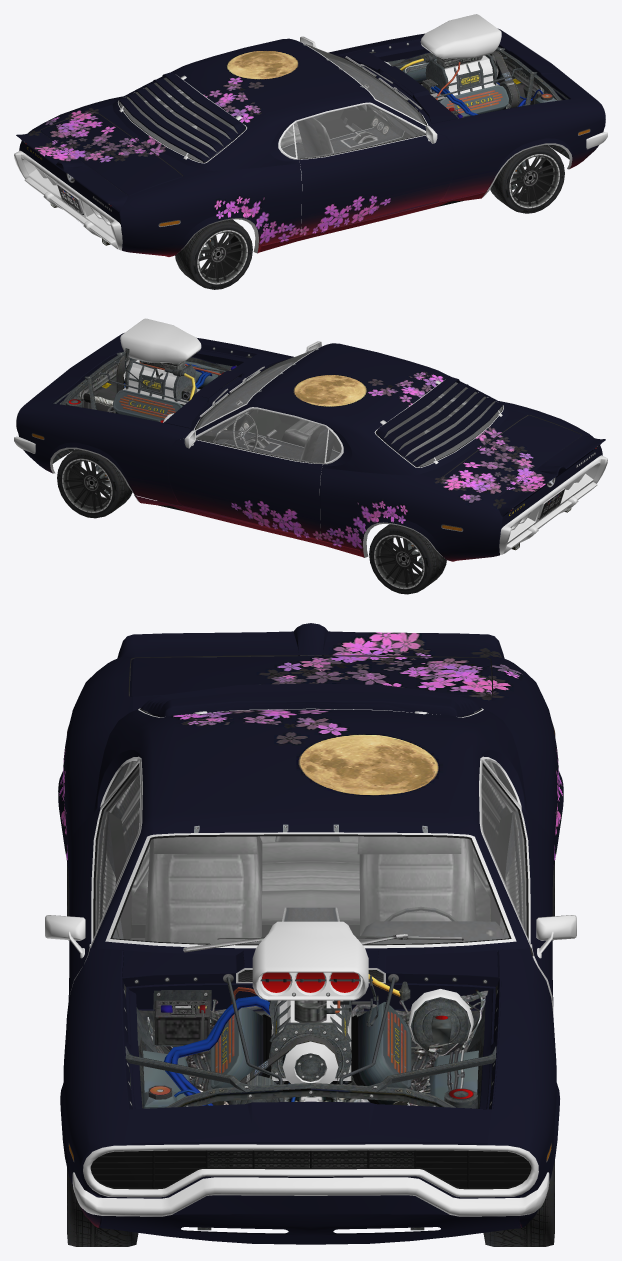
The model's file is carson_annihilator_street_rod-JAtnIIXY.glb.
3 renders of one model, top to bottom at view 1: azimuth 30°, elevation 25°; view 2: azimuth 150°, elevation 25°; view 3: azimuth 270°, elevation 25°, orthographic. The views are drawn at different scales.
Visible parts, largest first — view 1: FE_BE_8A_7B_44, 6C_FD_38_D4_22, 01_21_A2_63_38, D3_4E_6E_08_34, 5D_D4_9A_C9_6, 42_3D_8F_86_14, 6D_DE_B9_D3_54, 2A_03_4B_45.002_2, 2A_03_4B_45_64, E6_1C_5D_C2_26, DE_99_94_63_30, B9_AA_98_6C_60 (+6 smaller); view 2: FE_BE_8A_7B_44, CC_32_B7_9F_20, CD_4C_EB_8A_36, AF_05_7D_AC_32, 5D_D4_9A_C9_6, 42_3D_8F_86_14, D1_40_66_A9_52, 2A_03_4B_45.001_0, 2A_03_4B_45.003_4, E6_1C_5D_C2_26, 30_44_7D_A1_29, B9_AA_98_6C_60 (+7 smaller); view 3: FE_BE_8A_7B_44, B9_AA_98_6C_60, 5D_D4_9A_C9_6, 99_9A_65_BE_24, D3_4E_6E_08_34, AF_05_7D_AC_32, 42_3D_8F_86_14, D3_5F_15_66_48, BA_47_BC_77_16, CC_32_B7_9F_20, 6C_FD_38_D4_22, BE_7E_13_AC_46 (+7 smaller).
Boxes of the visible parts, left/top/right/bottom form: FE_BE_8A_7B_44: left=16, top=32, right=593, bottom=252; 6C_FD_38_D4_22: left=294, top=105, right=453, bottom=234; 01_21_A2_63_38: left=119, top=164, right=301, bottom=256; D3_4E_6E_08_34: left=431, top=98, right=605, bottom=201; 5D_D4_9A_C9_6: left=400, top=14, right=520, bottom=117; 42_3D_8F_86_14: left=40, top=111, right=182, bottom=195; 6D_DE_B9_D3_54: left=294, top=105, right=424, bottom=158; 2A_03_4B_45.002_2: left=175, top=219, right=252, bottom=289; 2A_03_4B_45_64: left=490, top=145, right=564, bottom=213; E6_1C_5D_C2_26: left=14, top=150, right=122, bottom=250; DE_99_94_63_30: left=257, top=190, right=489, bottom=253; B9_AA_98_6C_60: left=308, top=45, right=425, bottom=124; FE_BE_8A_7B_44: left=28, top=336, right=605, bottom=557; CC_32_B7_9F_20: left=168, top=409, right=327, bottom=539; CD_4C_EB_8A_36: left=320, top=468, right=502, bottom=561; AF_05_7D_AC_32: left=16, top=402, right=190, bottom=505; 5D_D4_9A_C9_6: left=113, top=318, right=221, bottom=421; 42_3D_8F_86_14: left=439, top=415, right=581, bottom=500; D1_40_66_A9_52: left=196, top=410, right=327, bottom=462; 2A_03_4B_45.001_0: left=369, top=524, right=446, bottom=594; 2A_03_4B_45.003_4: left=57, top=449, right=132, bottom=518; E6_1C_5D_C2_26: left=499, top=455, right=607, bottom=554; 30_44_7D_A1_29: left=134, top=495, right=364, bottom=557; B9_AA_98_6C_60: left=196, top=350, right=313, bottom=428; FE_BE_8A_7B_44: left=84, top=623, right=539, bottom=1244; B9_AA_98_6C_60: left=113, top=837, right=508, bottom=943; 5D_D4_9A_C9_6: left=210, top=921, right=411, bottom=1104; 99_9A_65_BE_24: left=83, top=1144, right=538, bottom=1197; D3_4E_6E_08_34: left=60, top=947, right=131, bottom=1227; AF_05_7D_AC_32: left=487, top=948, right=559, bottom=1227; 42_3D_8F_86_14: left=130, top=656, right=491, bottom=697; D3_5F_15_66_48: left=145, top=836, right=262, bottom=943; BA_47_BC_77_16: left=72, top=1172, right=549, bottom=1216; CC_32_B7_9F_20: left=482, top=766, right=576, bottom=1013; 6C_FD_38_D4_22: left=45, top=766, right=139, bottom=999; BE_7E_13_AC_46: left=359, top=838, right=476, bottom=935.
Bounding box in the file's own units: 4.73 × 1.31 × 2.2.
Materials: 31 (28 with a texture image).
